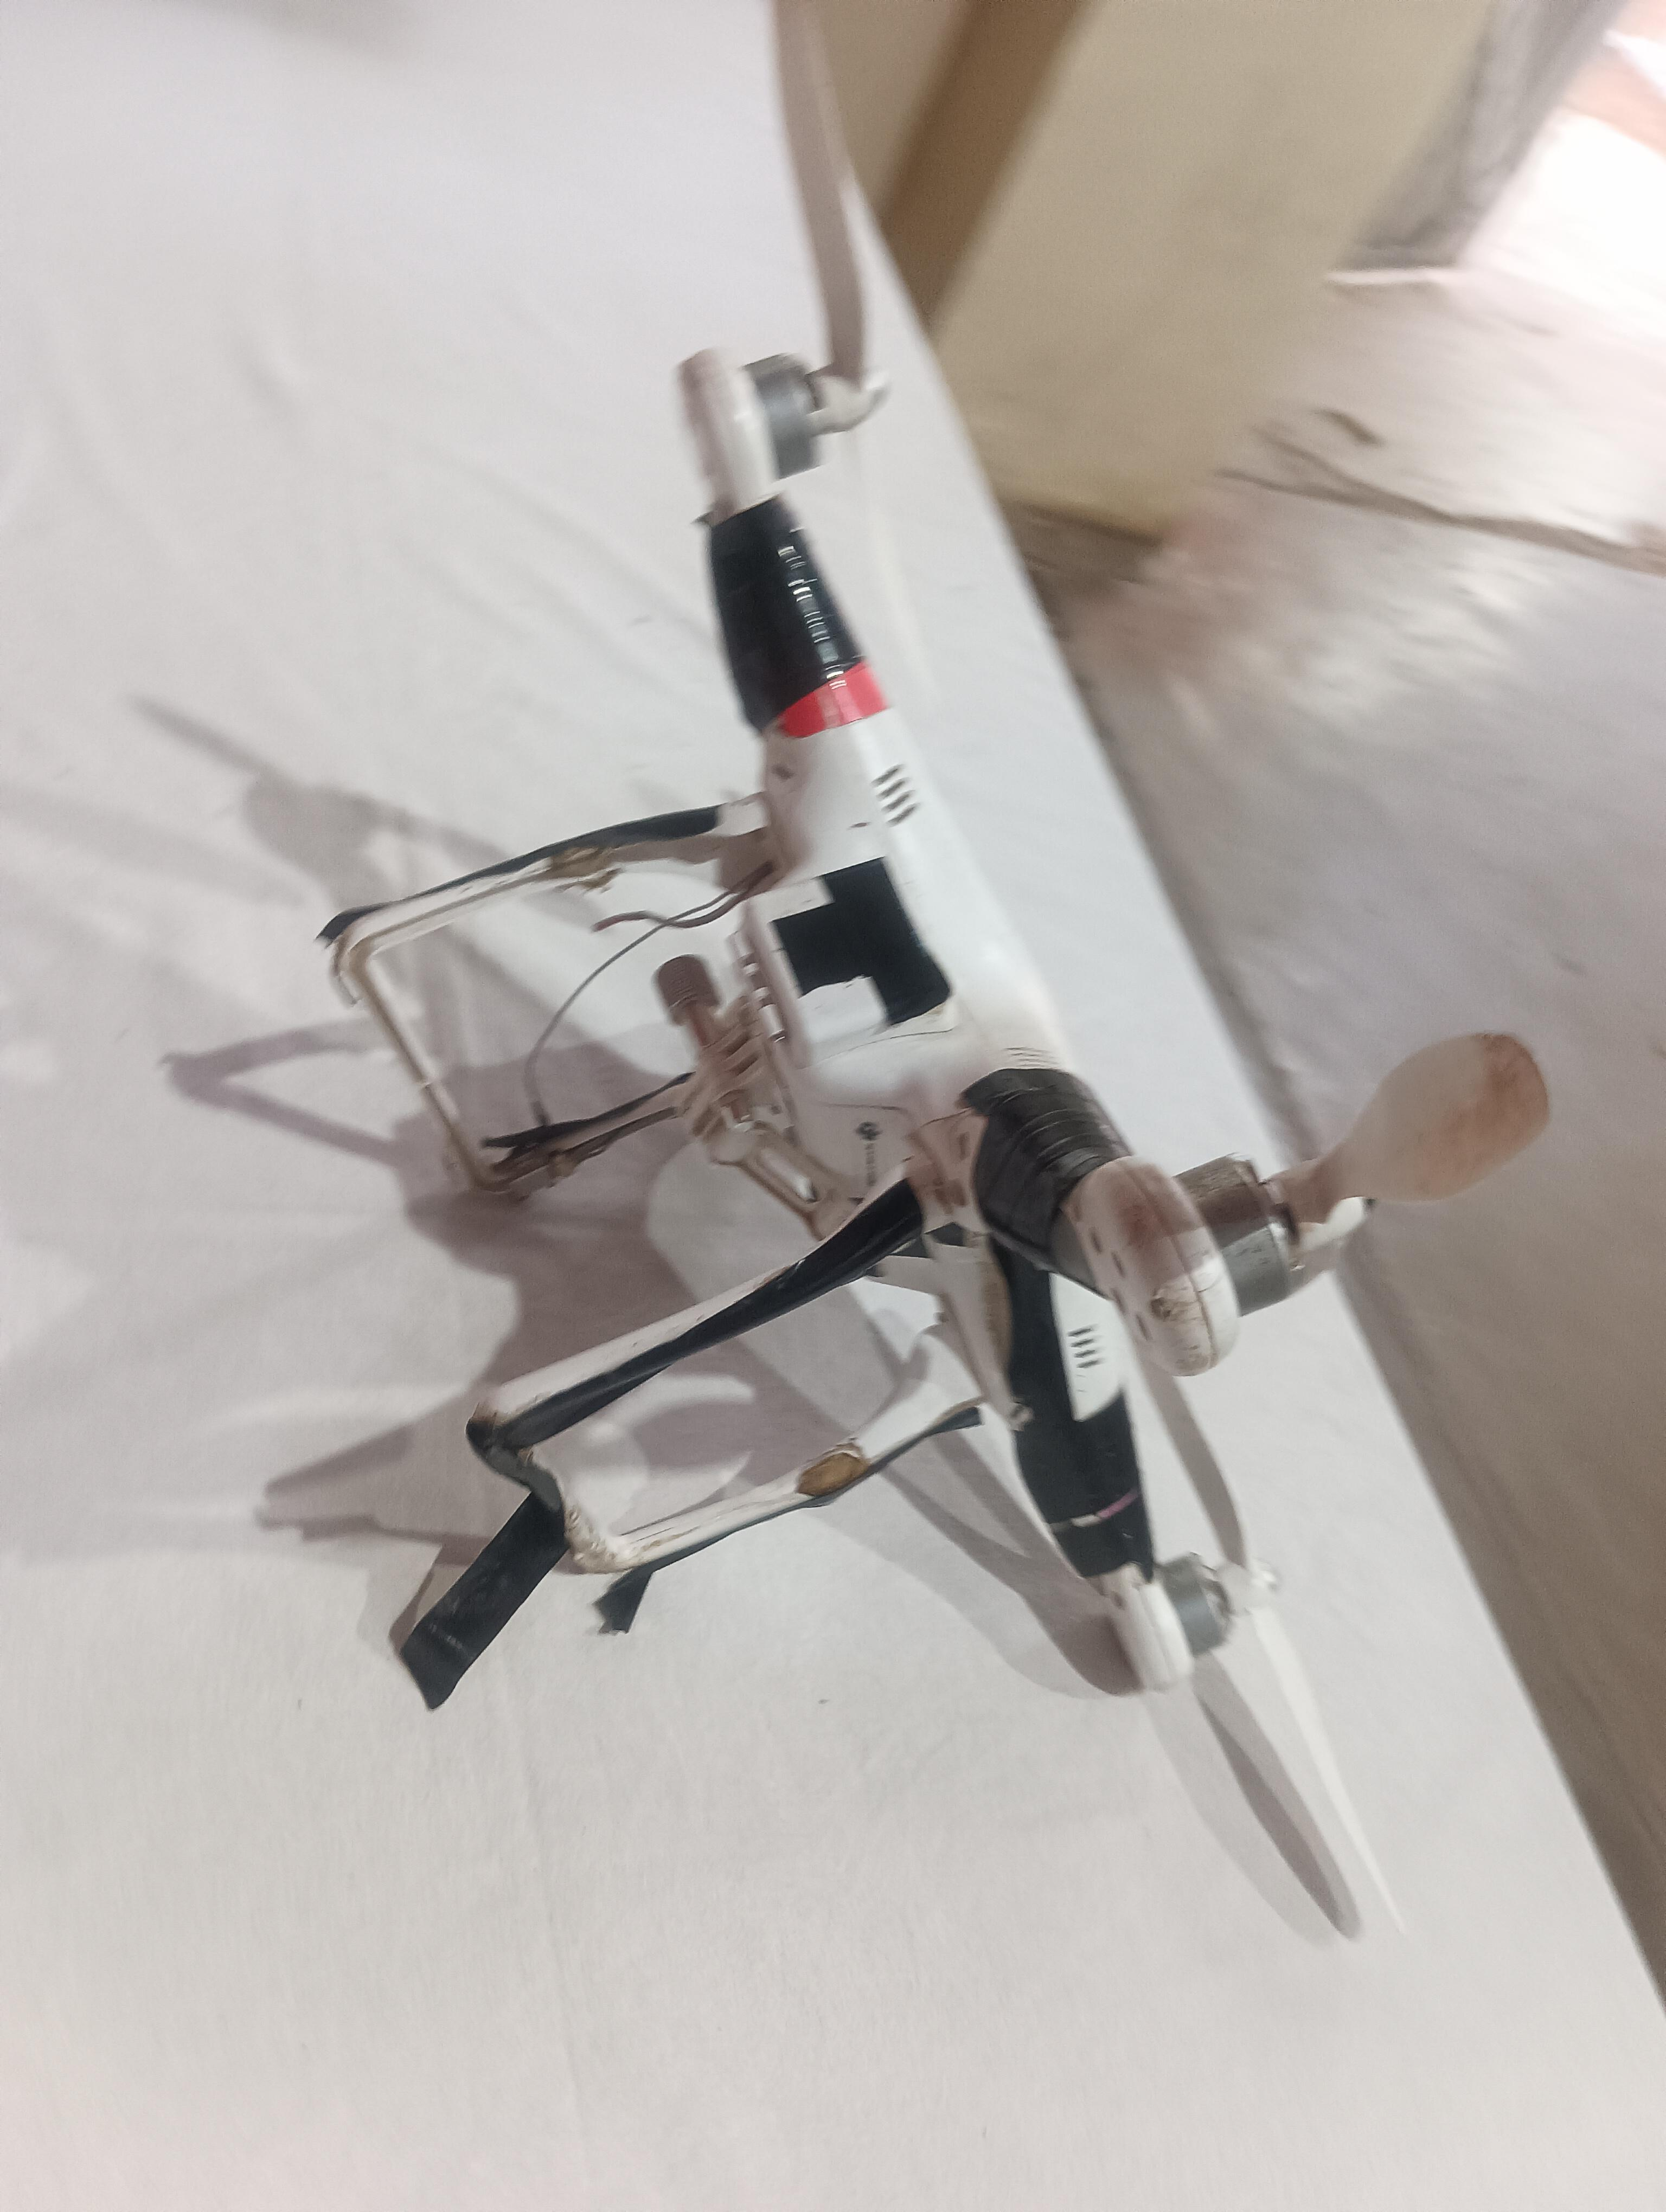drone: (248, 205, 1465, 1939)
